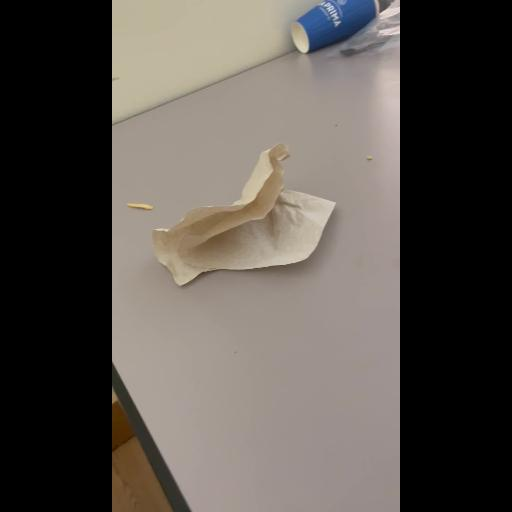napkin: (150, 143, 336, 283)
